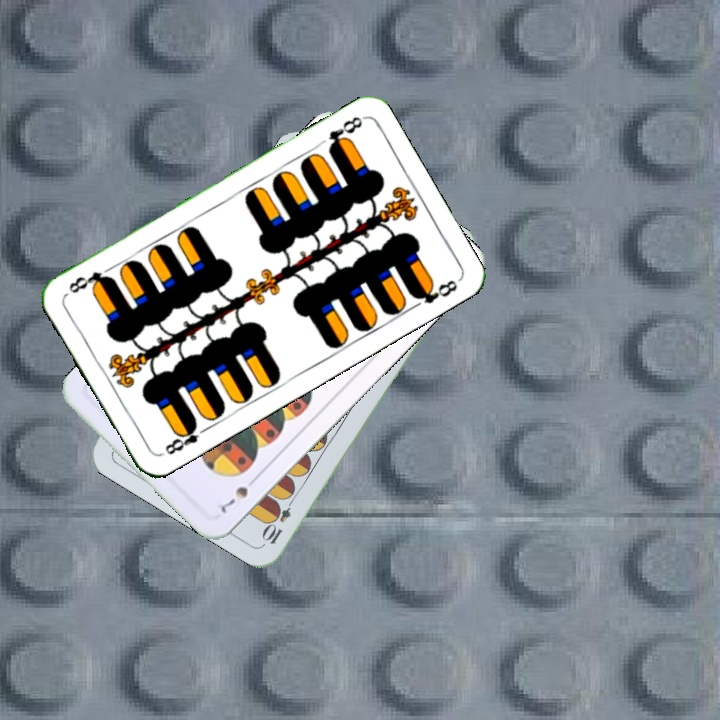E10: (259, 491, 298, 547)
E8: (160, 417, 211, 458), (323, 112, 366, 155)
S7: (216, 472, 261, 517)
